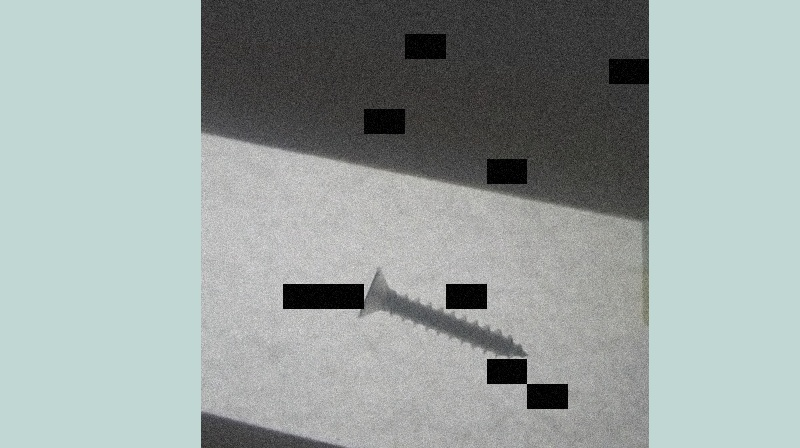S001: (353, 263, 532, 359)
